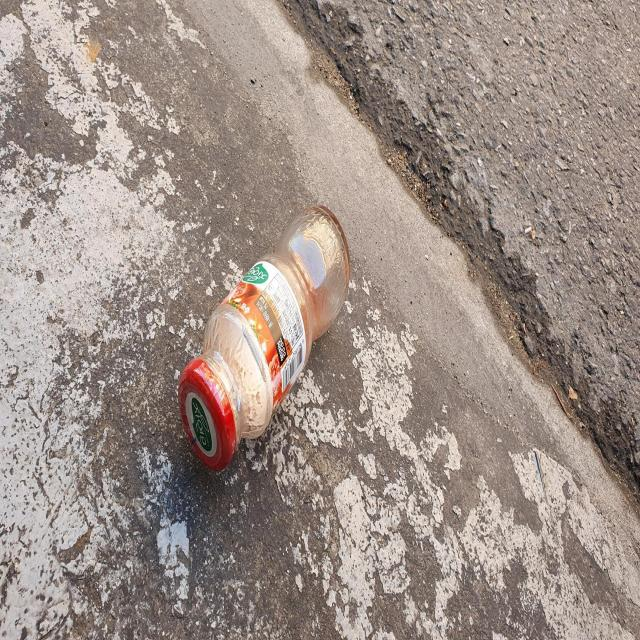glass: (178, 204, 351, 471)
